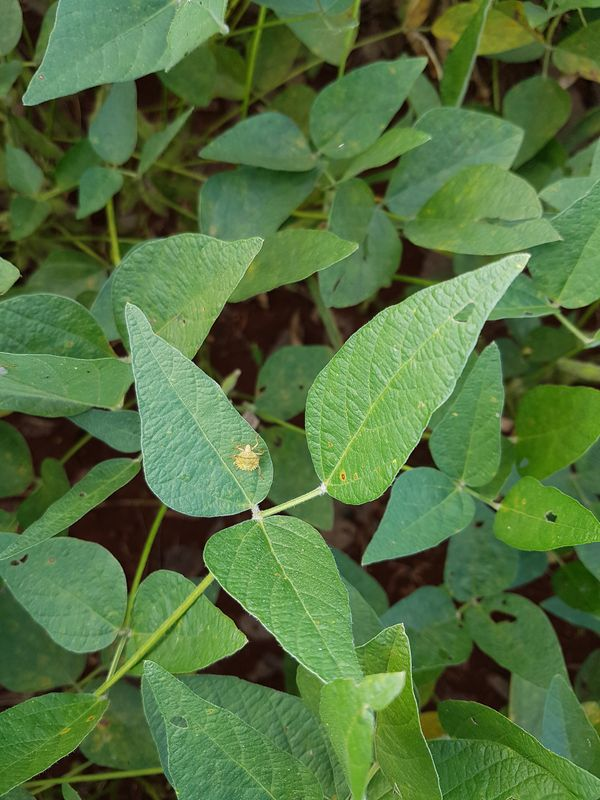Euschistus_heros_ninfa: (225, 431, 272, 484)
